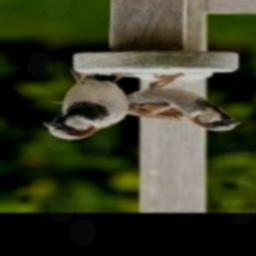Sparrow: (53, 73, 243, 131), (42, 73, 134, 140)
